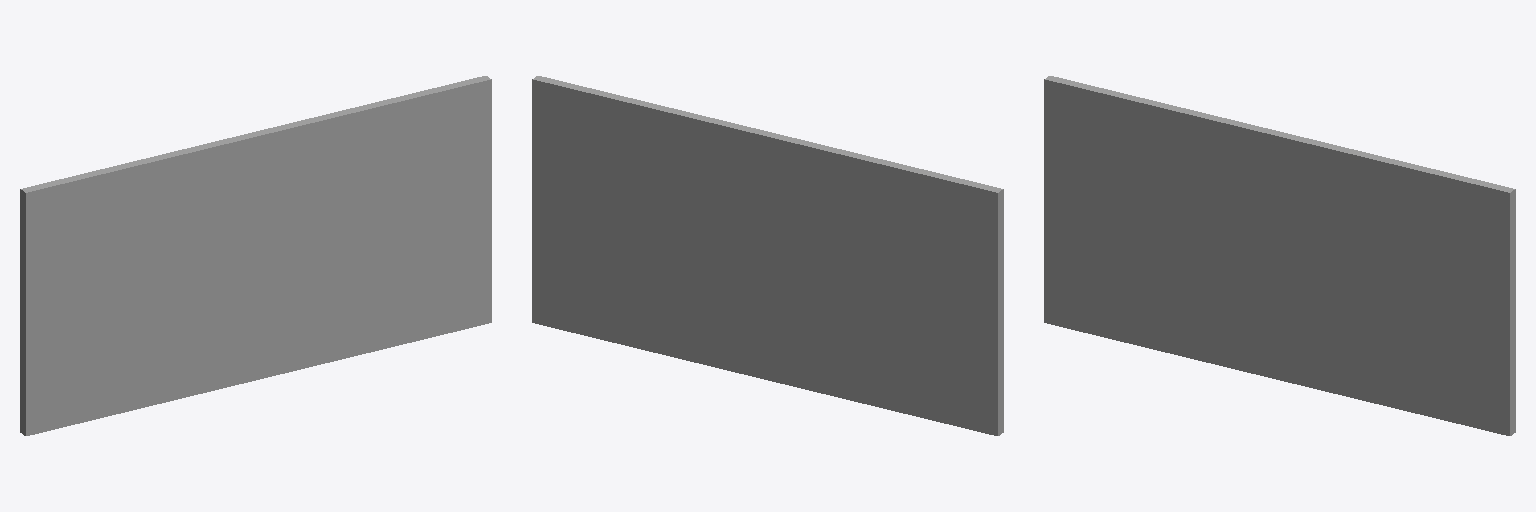
The robot description file, URDF, robot "wang2016_single_wing":
<?xml version="1.0"?>
<robot name="wang2016_single_wing">
  <!-- Minimal 3-DoF kinematic chain to realize Wang2016 Euler angles:
       sweep (yaw about z), heave (roll about y), pitch (about x).

       Frame convention for the wing link:
         x: spanwise (pitch axis)
         y: surface normal
         z: chordwise (in wing plane)
  -->

  <link name="base_link">
    <inertial>
      <origin xyz="0 0 0" rpy="0 0 0"/>
      <mass value="1.0"/>
      <inertia ixx="0.01" ixy="0" ixz="0" iyy="0.01" iyz="0" izz="0.01"/>
    </inertial>
  </link>

  <link name="sweep_link"/>
  <joint name="sweep" type="revolute">
    <parent link="base_link"/>
    <child link="sweep_link"/>
    <origin xyz="0 0 0" rpy="0 0 0"/>
    <axis xyz="0 0 1"/>
    <limit lower="-3.14159" upper="3.14159" effort="5" velocity="50"/>
  </joint>

  <link name="heave_link"/>
  <joint name="heave" type="revolute">
    <parent link="sweep_link"/>
    <child link="heave_link"/>
    <origin xyz="0 0 0" rpy="0 0 0"/>
    <axis xyz="0 1 0"/>
    <limit lower="-1.5708" upper="1.5708" effort="5" velocity="50"/>
  </joint>

  <link name="wing">
    <inertial>
      <!-- Place COM roughly at mid-span; chordwise at pitch axis (z=0). -->
      <origin xyz="0.05 0 0" rpy="0 0 0"/>
      <mass value="0.2"/>
      <inertia ixx="0.0004" ixy="0" ixz="0" iyy="0.0004" iyz="0" izz="0.0004"/>
    </inertial>
    <visual>
      <!-- Box approximating a thin plate: span=0.10m, chord=0.05m -->
      <origin xyz="0.05 0 0" rpy="0 0 0"/>
      <geometry>
        <box size="0.10 0.002 0.05"/>
      </geometry>
      <material name="gray">
        <color rgba="0.7 0.7 0.7 1"/>
      </material>
    </visual>
    <collision>
      <origin xyz="0.05 0 0" rpy="0 0 0"/>
      <geometry>
        <box size="0.10 0.002 0.05"/>
      </geometry>
    </collision>
  </link>

  <joint name="pitch" type="revolute">
    <parent link="heave_link"/>
    <child link="wing"/>
    <origin xyz="0 0 0" rpy="0 0 0"/>
    <axis xyz="1 0 0"/>
    <limit lower="-3.14159" upper="3.14159" effort="5" velocity="50"/>
  </joint>
</robot>

--- Render facts (derived) ---
Views: 3 orthographic renders of the robot side by side, from view 1: azimuth 30°, elevation 25°; view 2: azimuth 150°, elevation 25°; view 3: azimuth 330°, elevation 25°.
Robot: wang2016_single_wing — 4 links, 3 joints (3 revolute); root link base_link; default pose: all joints at 0.
Links seen in each view (by area): view 1: wing; view 2: wing; view 3: wing.
Link boxes in pixels (left/top/right/bottom): wing: left=20, top=76, right=491, bottom=435; wing: left=532, top=76, right=1003, bottom=435; wing: left=1044, top=76, right=1515, bottom=435.
Size in the robot's own frame: 0.1 by 0.002 by 0.05 metres.
Geometry: primitives only (box / cylinder / sphere), no mesh files.
